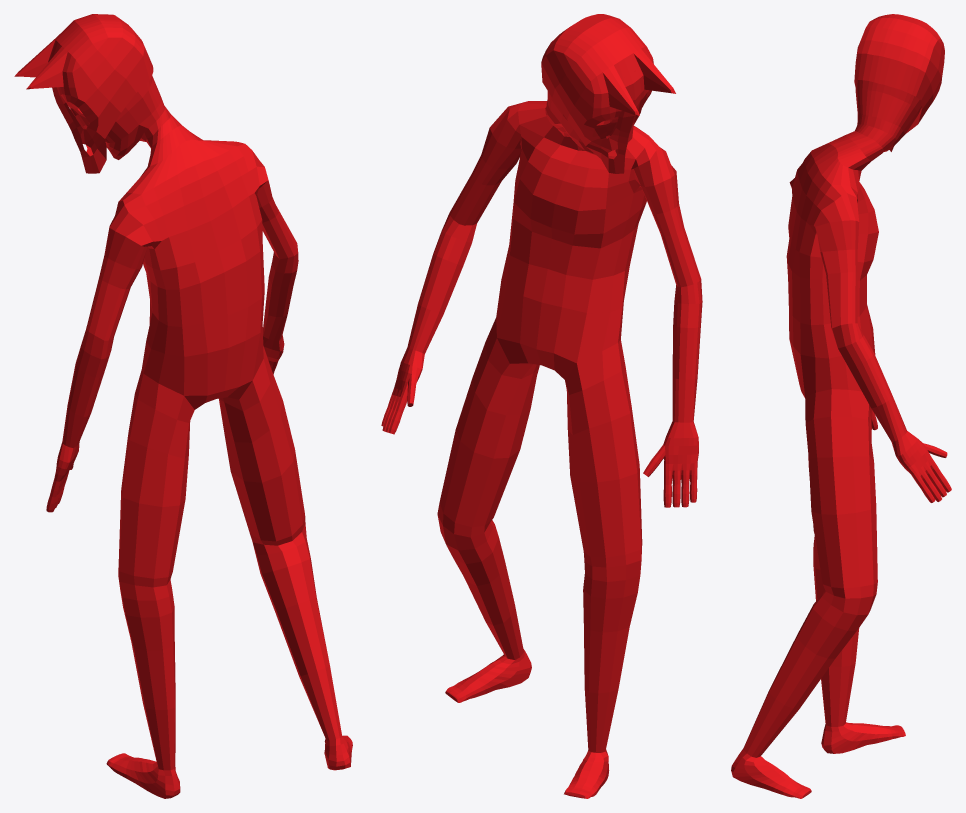
File: reposoE_000248.obj
3 renders of one model, left to right at view 1: azimuth 30°, elevation 25°; view 2: azimuth 150°, elevation 25°; view 3: azimuth 270°, elevation 25°, orthographic. The views are drawn at different scales.
Visible parts, largest first — view 1: Plane.002_Plane.001; view 2: Plane.002_Plane.001; view 3: Plane.002_Plane.001.
Boxes of the visible parts, x1=… form: Plane.002_Plane.001: x1=14, y1=14, x2=352, y2=798; Plane.002_Plane.001: x1=381, y1=14, x2=702, y2=798; Plane.002_Plane.001: x1=731, y1=14, x2=951, y2=798.
Size of the model in its own units: 2.61 by 6.97 by 1.95.
